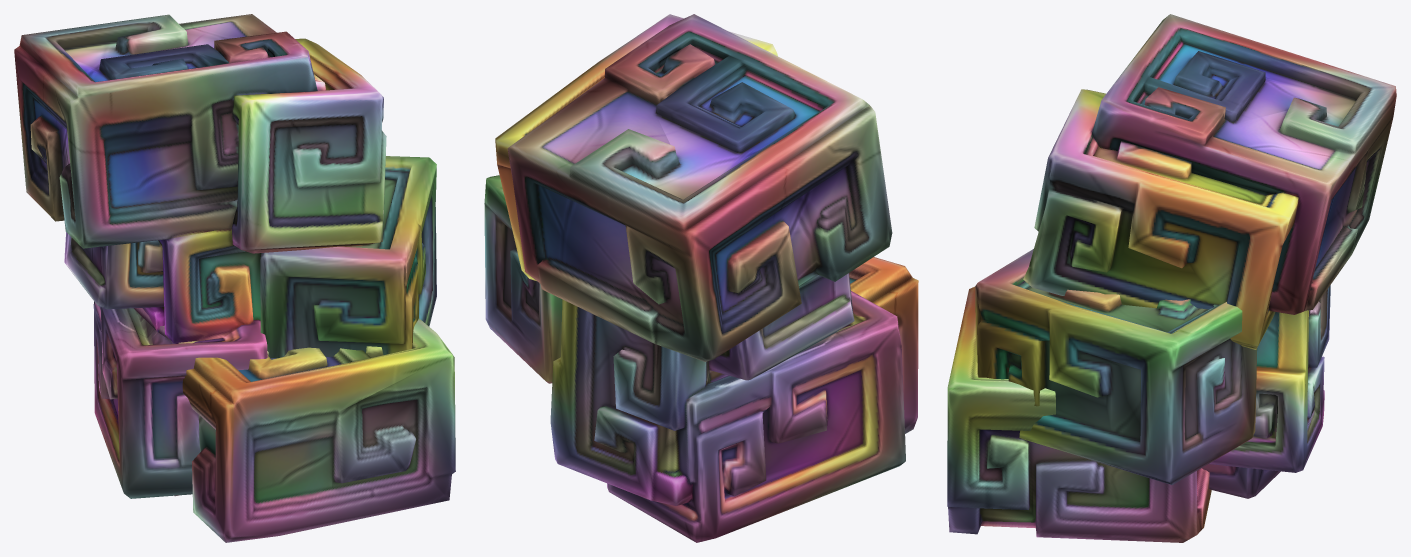
File: SM_Gem_Bismuth_006.fbx
3 views of the same model, side by side, from view 1: azimuth 30°, elevation 25°; view 2: azimuth 150°, elevation 25°; view 3: azimuth 270°, elevation 25° (orthographic). The views are drawn at different scales.
Visible parts, largest first — view 1: SM_Gem_Bismuth_006; view 2: SM_Gem_Bismuth_006; view 3: SM_Gem_Bismuth_006.
Part boxes in pixels (x1,y1,x2,y2): SM_Gem_Bismuth_006: [14, 14, 455, 542]; SM_Gem_Bismuth_006: [484, 14, 918, 542]; SM_Gem_Bismuth_006: [947, 14, 1396, 542].
Bounding box in the file's own units: 49.85 × 52.46 × 53.03.
